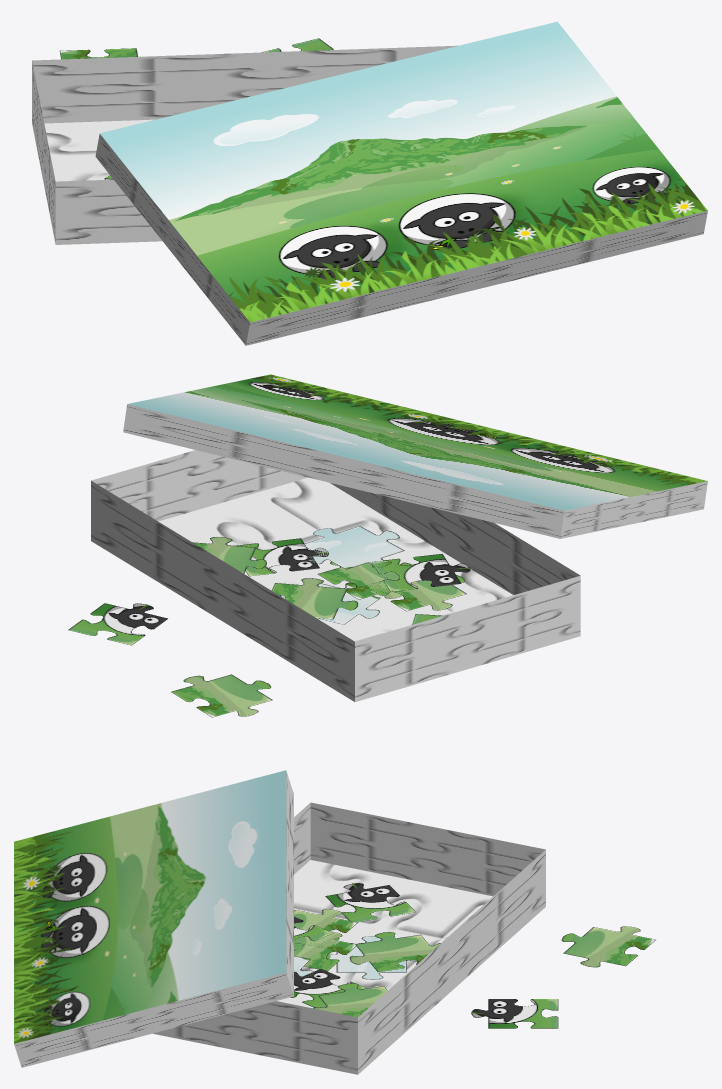
The model's file is PuzzelDoos.fbx.
The picture shows the model from 3 angles, top to bottom: view 1: azimuth 30°, elevation 25°; view 2: azimuth 150°, elevation 25°; view 3: azimuth 270°, elevation 25°; orthographic projection. The views are drawn at different scales.
Visible parts, largest first — view 1: pCube1, pCube2, pPlane2; view 2: pCube2, pCube1, pPlane8, pPlane2, pPlane3, pPlane7, pPlane9, pPlane10, pPlane11, pPlane5, pPlane6, pPlane1; view 3: pCube1, pCube2, pPlane2, pPlane9, pPlane3, pPlane4, pPlane6, pPlane5, pPlane10, pPlane1, pPlane11.
Part boxes in pixels (x1,y1,x2,y2): pCube1: (95, 21, 707, 345); pCube2: (32, 45, 457, 244); pPlane2: (59, 48, 137, 59); pCube2: (91, 450, 580, 701); pCube1: (123, 374, 707, 538); pPlane8: (302, 526, 404, 569); pPlane2: (171, 674, 272, 717); pPlane3: (68, 603, 167, 645); pPlane7: (372, 553, 470, 591); pPlane9: (271, 578, 358, 619); pPlane10: (235, 538, 328, 576); pPlane11: (366, 572, 466, 611); pPlane5: (317, 559, 418, 599); pPlane6: (193, 536, 266, 573); pPlane1: (280, 582, 380, 624); pCube1: (14, 770, 293, 1067); pCube2: (153, 802, 545, 1074); pPlane2: (561, 926, 655, 967); pPlane9: (349, 932, 440, 971); pPlane3: (471, 999, 558, 1028); pPlane4: (325, 883, 415, 922); pPlane6: (313, 983, 387, 1017); pPlane5: (294, 931, 355, 971); pPlane10: (290, 969, 366, 1007); pPlane1: (326, 936, 417, 979); pPlane11: (294, 909, 357, 949).
Bounding box in the file's own units: 9.34 × 2.08 × 12.69.
Materials: 5 (5 with a texture image).
